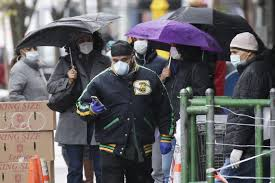mask: (228, 31, 260, 71), (109, 40, 132, 76), (167, 38, 189, 61), (19, 43, 40, 64), (76, 30, 95, 53), (132, 36, 154, 54)
